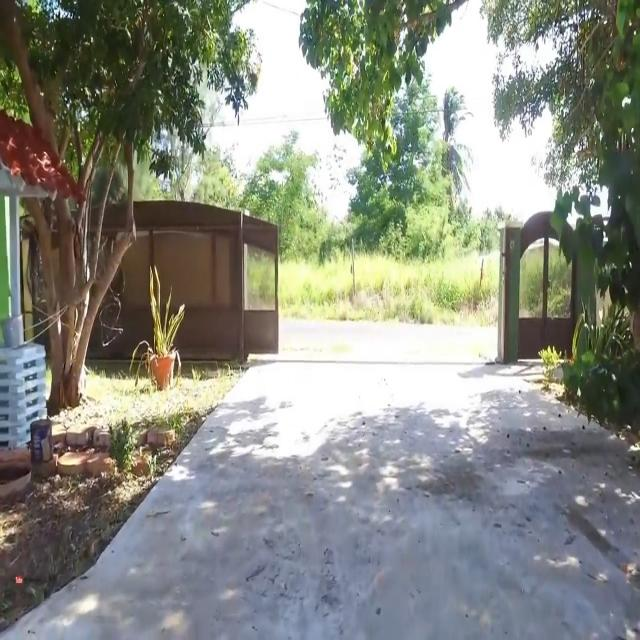Building: (92, 204, 284, 373), (0, 117, 72, 450), (491, 208, 567, 361)
Tree: (0, 0, 252, 404), (297, 0, 432, 156)
